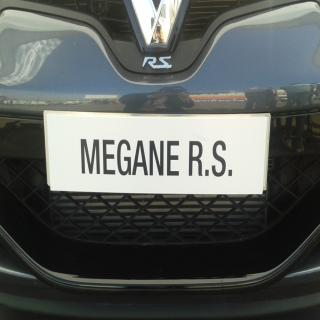license: (46, 115, 269, 193)
